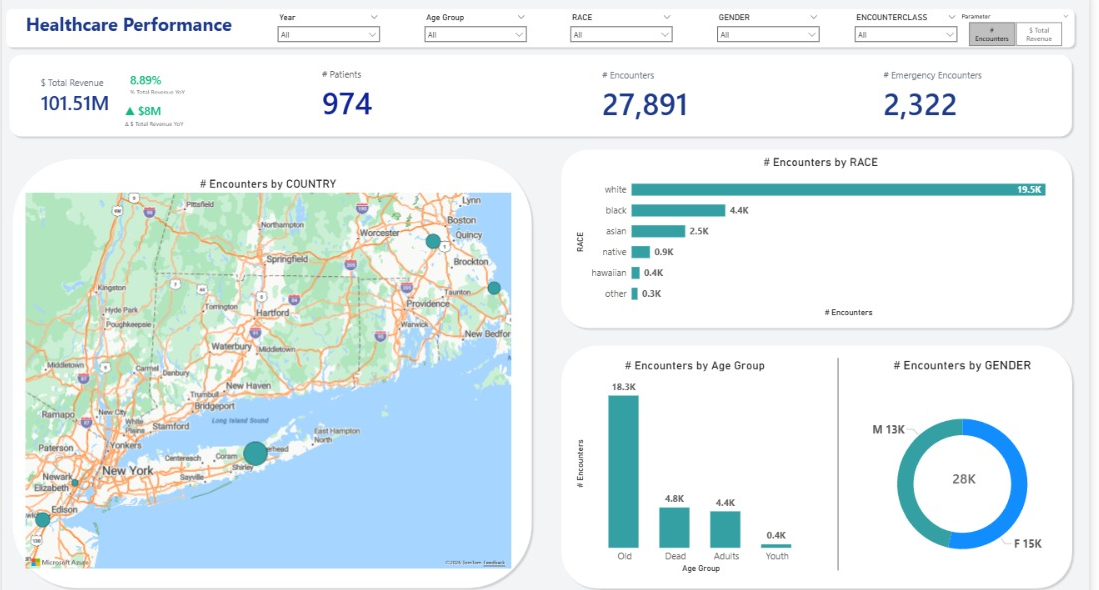

The page's visual inventory and layout, read from the dashboard file:
{"tool":"powerbi","page":{"name":"Demographics","canvas":[1920,1080],"ordinal":2},"visuals":[{"type":"shape","box":[0,20,1901.7,81.7],"z":0},{"type":"cardVisual","fields":{"Data":["_Measures.$ Total Claim Cost"]},"box":[46.7,111.9,317.5,137.5],"z":0,"group":"g1"},{"type":"cardVisual","fields":{"Data":["_Measures.Δ $ Total Cost YoY"]},"box":[188.9,178.3,167.5,73.6],"z":1000,"group":"g1"},{"type":"shape","box":[981,268.7,916.6,329.4],"z":1000},{"type":"shape","box":[5,101.7,1891.7,158.3],"z":2000},{"type":"cardVisual","fields":{"Data":["_Measures.# Encounters"]},"box":[1038.5,111.5,317.1,137.1],"z":3000},{"type":"shape","box":[11.8,285.6,931.6,772.1],"z":4000},{"type":"group","id":"g1","title":"Group 1","box":[46.7,111.9,317.5,140.1],"z":5000,"group":"g2"},{"type":"shape","box":[981,614.7,916.6,443.6],"z":5000},{"type":"cardVisual","fields":{"Data":["_Measures.# Emergency Encounters"]},"box":[1534.3,111.5,317.1,137.1],"z":6000},{"type":"cardVisual","fields":{"Data":["_Measures.# Patients"]},"box":[542.9,111.3,317,137.7],"z":7000},{"type":"donutChart","fields":{"Category":["patients.GENDER"],"Y":["_Measures.# Encounters"]},"box":[1506.6,644.3,378.7,421.3],"z":8000},{"type":"cardVisual","fields":{"Data":["_Measures.# Encounters"]},"box":[1624.6,814.8,149.2,80.3],"z":9000},{"type":"barChart","fields":{"Category":["patients.RACE"],"Y":["_Measures.# Encounters"]},"box":[1008.6,285.3,876.1,290.8],"z":10000},{"type":"azureMap","title":"# Encounters by COUNTRY","fields":{"Category":["patients.COUNTRY"],"Size":["_Measures.# Encounters"]},"box":[37.4,323,866.6,697.3],"z":11000},{"type":"clusteredColumnChart","fields":{"Category":["patients.Age Group"],"Y":["_Measures.# Encounters"]},"box":[1008.2,644.3,431.1,385.2],"z":12000},{"type":"textbox","box":[36.7,27.8,381.7,65],"z":13000},{"type":"slicer","fields":{"Values":["Calendar.Year"]},"box":[477,29.4,200,61.7],"z":14000},{"type":"slicer","fields":{"Values":["patients.Age Group"]},"box":[735.7,29.4,200,61.7],"z":15000},{"type":"slicer","fields":{"Values":["patients.RACE"]},"box":[994.3,29.4,200,61.7],"z":16000},{"type":"slicer","fields":{"Values":["patients.GENDER"]},"box":[1253,29.4,200,61.7],"z":17000},{"type":"cardVisual","fields":{"Data":["_Measures.% Total Revenue YoY"]},"box":[196.9,125.2,167.5,69.9],"z":17001,"group":"g2"},{"type":"slicer","fields":{"Values":["encounters.ENCOUNTERCLASS"]},"box":[1496.9,29.5,200.9,61.1],"z":18000},{"type":"group","id":"g2","title":"Group 2","box":[46.7,111.9,317.7,140.1],"z":19000},{"type":"slicer","fields":{"Values":["Parameter.Parameter"]},"box":[1682.1,29.5,214.7,68.9],"z":20000},{"type":"shape","box":[1445.9,644.3,60.7,375.4],"z":20001}]}

Visuals, with their boxes on the page's 1920x1080 design canvas (x1, y1, x2, y2). These are canvas units, not pixel positions in the 1099x590 screenshot, which may show the page scaled, cropped or inside an application window:
shape: {"left": 0, "top": 20, "right": 1902, "bottom": 102}
cardVisual - _Measures.$ Total Claim Cost: {"left": 47, "top": 112, "right": 364, "bottom": 249}
cardVisual - _Measures.Δ $ Total Cost YoY: {"left": 189, "top": 178, "right": 356, "bottom": 252}
shape: {"left": 981, "top": 269, "right": 1898, "bottom": 598}
shape: {"left": 5, "top": 102, "right": 1897, "bottom": 260}
cardVisual - _Measures.# Encounters: {"left": 1038, "top": 112, "right": 1356, "bottom": 249}
shape: {"left": 12, "top": 286, "right": 943, "bottom": 1058}
"Group 1" group: {"left": 47, "top": 112, "right": 364, "bottom": 252}
shape: {"left": 981, "top": 615, "right": 1898, "bottom": 1058}
cardVisual - _Measures.# Emergency Encounters: {"left": 1534, "top": 112, "right": 1851, "bottom": 249}
cardVisual - _Measures.# Patients: {"left": 543, "top": 111, "right": 860, "bottom": 249}
donutChart - patients.GENDER x _Measures.# Encounters: {"left": 1507, "top": 644, "right": 1885, "bottom": 1066}
cardVisual - _Measures.# Encounters: {"left": 1625, "top": 815, "right": 1774, "bottom": 895}
barChart - patients.RACE x _Measures.# Encounters: {"left": 1009, "top": 285, "right": 1885, "bottom": 576}
"# Encounters by COUNTRY" azureMap: {"left": 37, "top": 323, "right": 904, "bottom": 1020}
clusteredColumnChart - patients.Age Group x _Measures.# Encounters: {"left": 1008, "top": 644, "right": 1439, "bottom": 1030}
textbox: {"left": 37, "top": 28, "right": 418, "bottom": 93}
slicer - Calendar.Year: {"left": 477, "top": 29, "right": 677, "bottom": 91}
slicer - patients.Age Group: {"left": 736, "top": 29, "right": 936, "bottom": 91}
slicer - patients.RACE: {"left": 994, "top": 29, "right": 1194, "bottom": 91}
slicer - patients.GENDER: {"left": 1253, "top": 29, "right": 1453, "bottom": 91}
cardVisual - _Measures.% Total Revenue YoY: {"left": 197, "top": 125, "right": 364, "bottom": 195}
slicer - encounters.ENCOUNTERCLASS: {"left": 1497, "top": 30, "right": 1698, "bottom": 91}
"Group 2" group: {"left": 47, "top": 112, "right": 364, "bottom": 252}
slicer - Parameter.Parameter: {"left": 1682, "top": 30, "right": 1897, "bottom": 98}
shape: {"left": 1446, "top": 644, "right": 1507, "bottom": 1020}
